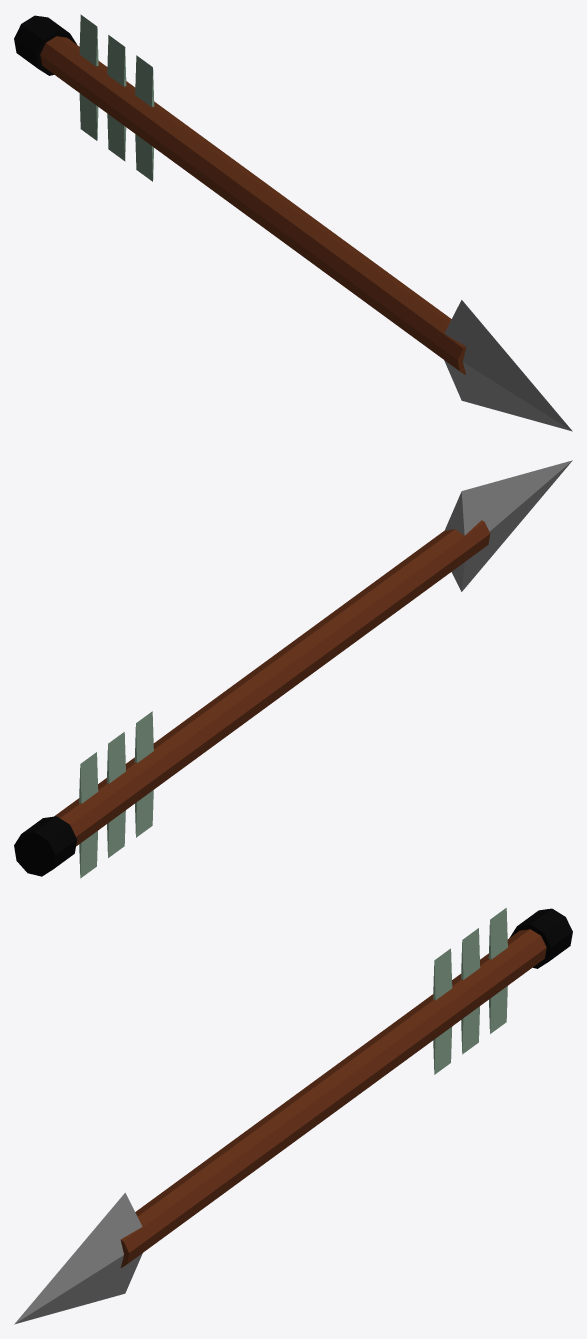
File: arrow.glb
3 renders of one model, top to bottom at view 1: azimuth 30°, elevation 25°; view 2: azimuth 150°, elevation 25°; view 3: azimuth 330°, elevation 25°, orthographic.
Visible parts, largest first — view 1: Cylinder, Cone, Cube, Cylinder.001; view 2: Cylinder, Cone, Cube, Cylinder.001; view 3: Cylinder, Cone, Cube, Cylinder.001.
Part boxes in pixels (left/top/right/bottom): Cylinder: left=40, top=36, right=466, bottom=374; Cone: left=444, top=300, right=572, bottom=431; Cube: left=79, top=14, right=154, bottom=181; Cylinder.001: left=14, top=15, right=76, bottom=75; Cylinder: left=54, top=520, right=490, bottom=846; Cone: left=444, top=460, right=572, bottom=591; Cube: left=79, top=711, right=153, bottom=878; Cylinder.001: left=14, top=816, right=77, bottom=876; Cylinder: left=120, top=929, right=546, bottom=1267; Cone: left=14, top=1192, right=142, bottom=1324; Cube: left=433, top=908, right=507, bottom=1074; Cylinder.001: left=509, top=908, right=572, bottom=968.
Bounding box in the file's own units: 0.5296 × 1.4 × 11.91.
